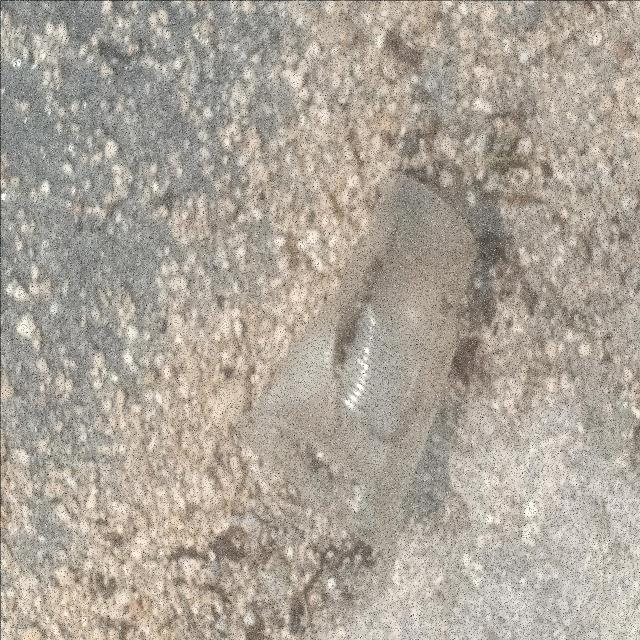plastic_waste: (233, 178, 481, 549)
